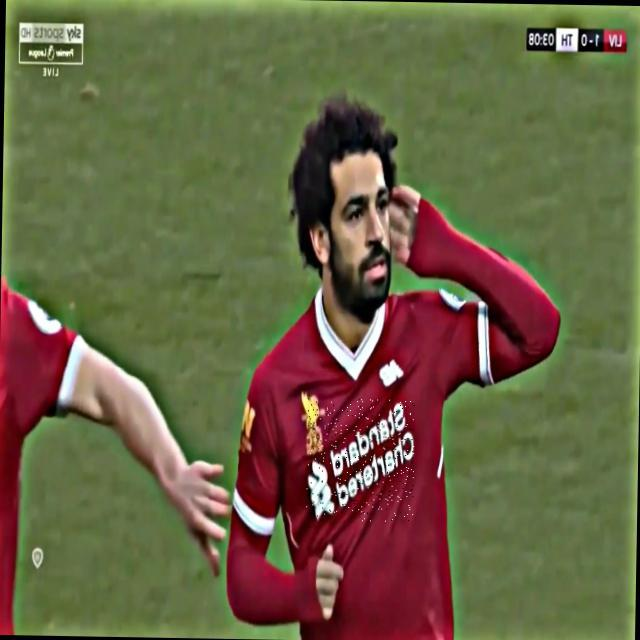Standard Chartered: (306, 398, 415, 522)
